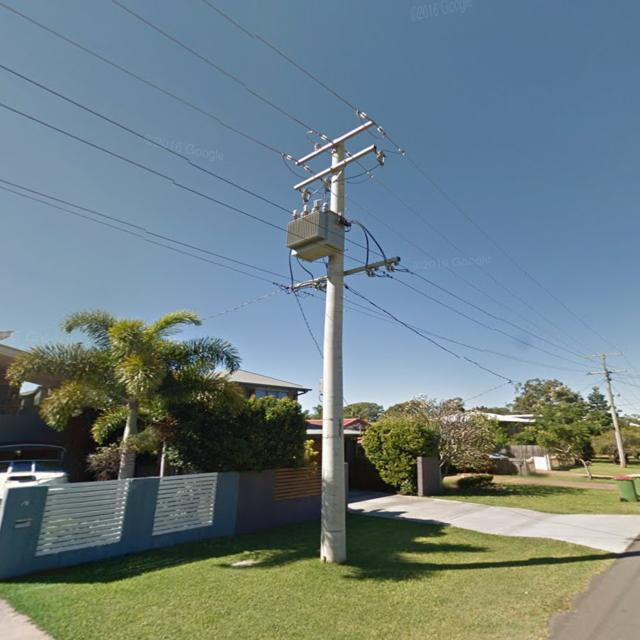HV-transmission: (283, 109, 406, 203)
LV link: (385, 263, 416, 274), (366, 268, 392, 279)
concrete-pole: (316, 140, 348, 563)
crossarm: (286, 256, 400, 292), (291, 144, 376, 190), (294, 119, 376, 166)
transformer: (285, 208, 343, 262)
